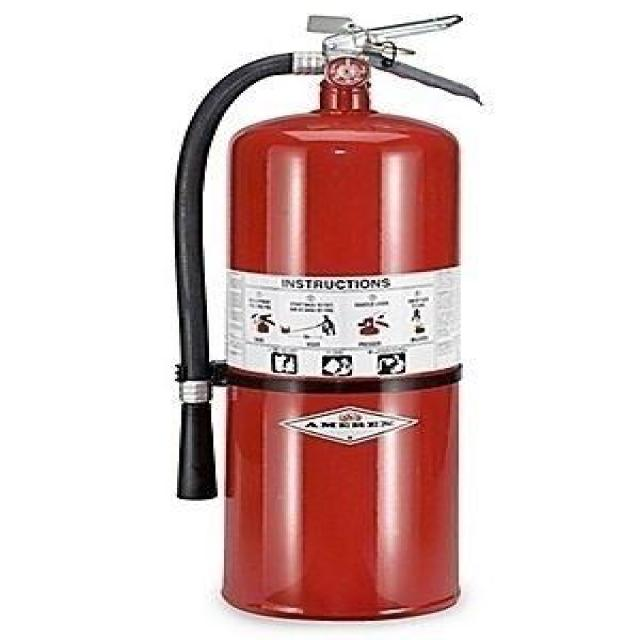fire_extinguisher: (163, 8, 488, 626)
